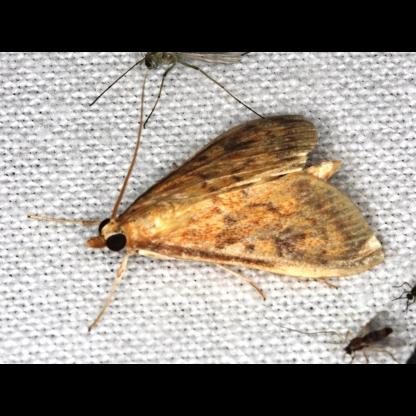Asian Corn Borer Moth: (26, 70, 388, 336)
